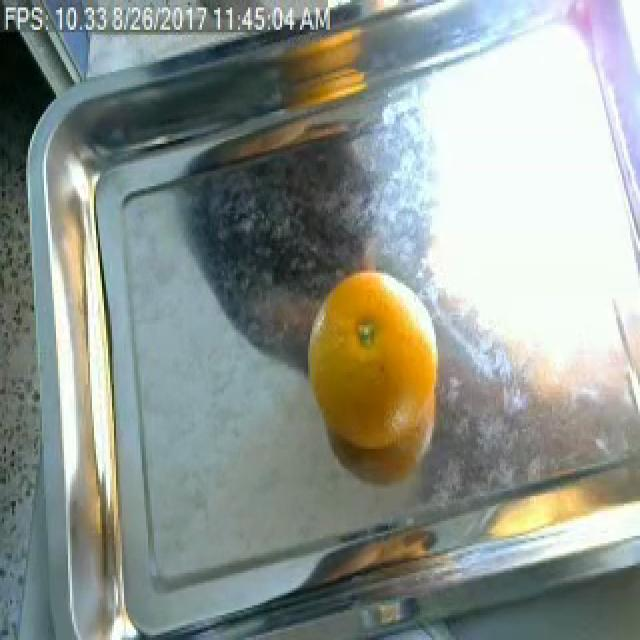Fruit: (294, 256, 460, 491)
